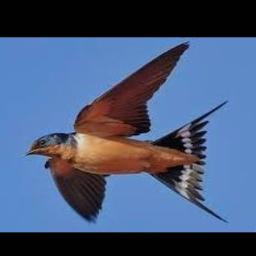Swallow: (20, 41, 228, 223)
